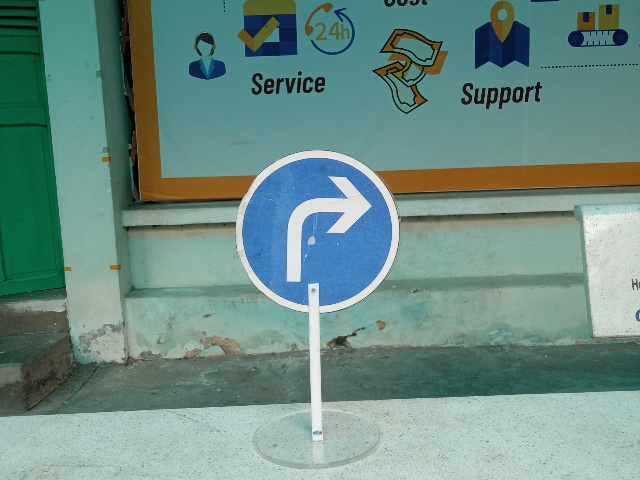Right_Sign: (237, 149, 400, 313)
